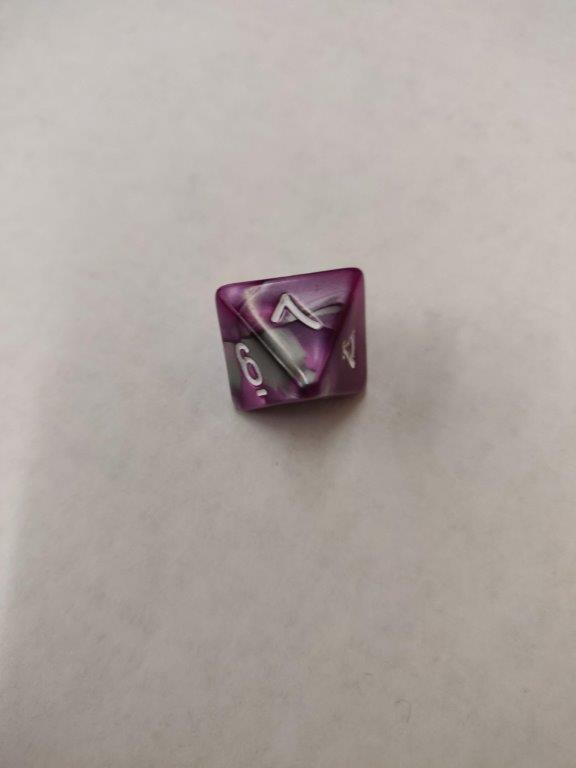d8-7: (212, 263, 369, 419)
